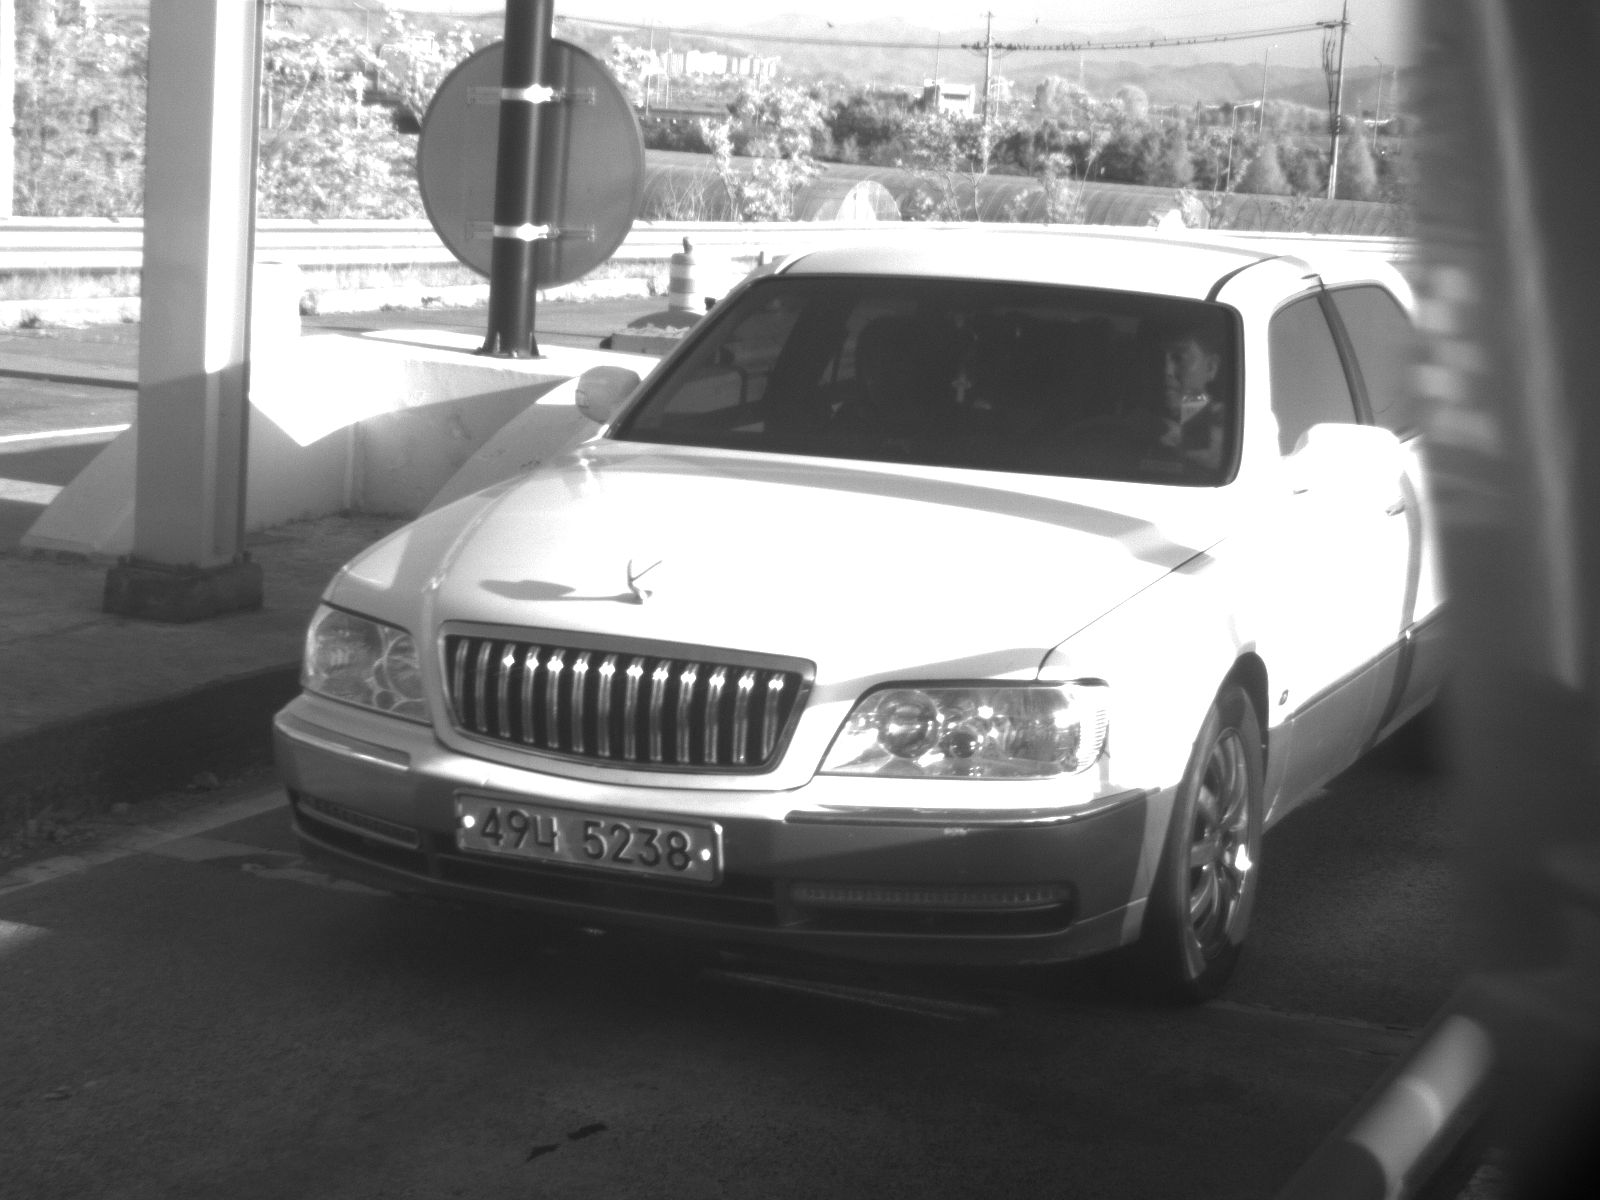car: (265, 217, 1452, 1005)
plate: (442, 792, 724, 893)
